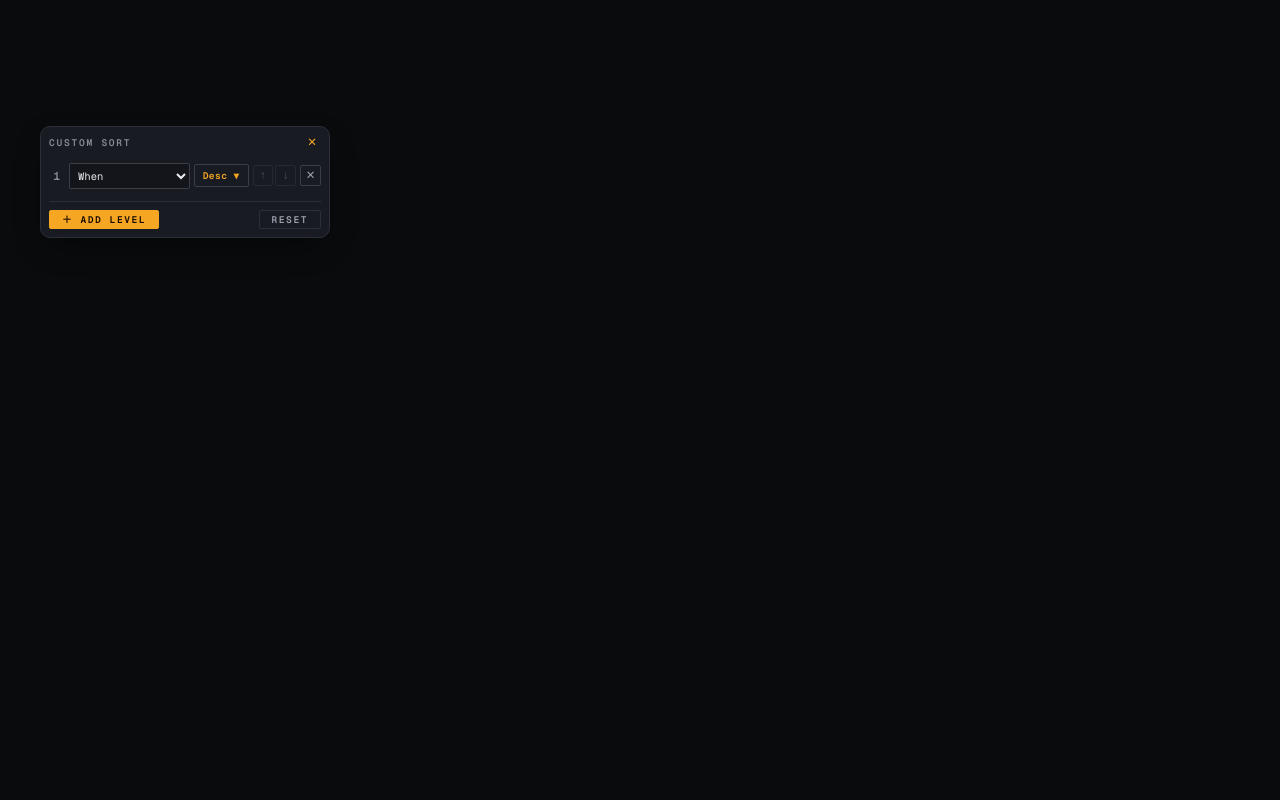
MatchesTableSortPopover › Add level appends a level and disables reorder at the ends
Click the button "＋ Add level" at (104, 219), box [49,210,159,229]
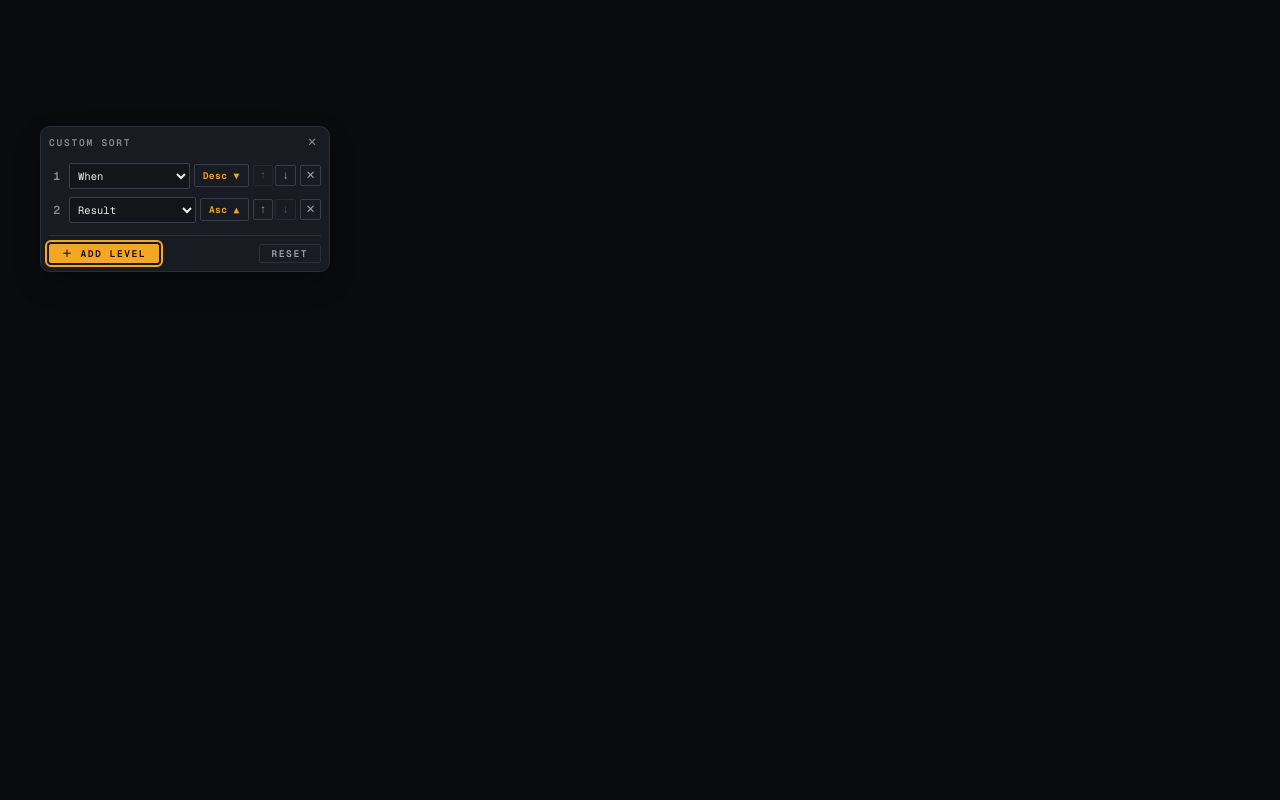
Expected: the button named "Move level up" is disabled, [253,165,273,186]
Expected: the number of dropdowns is 2, [69,162,190,188]; [69,196,196,222]
Expected: the button named "Move level down" is disabled, [275,199,296,220]
